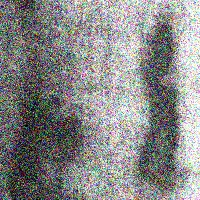patches: (8, 87, 84, 199), (136, 17, 179, 189), (13, 1, 39, 16)
